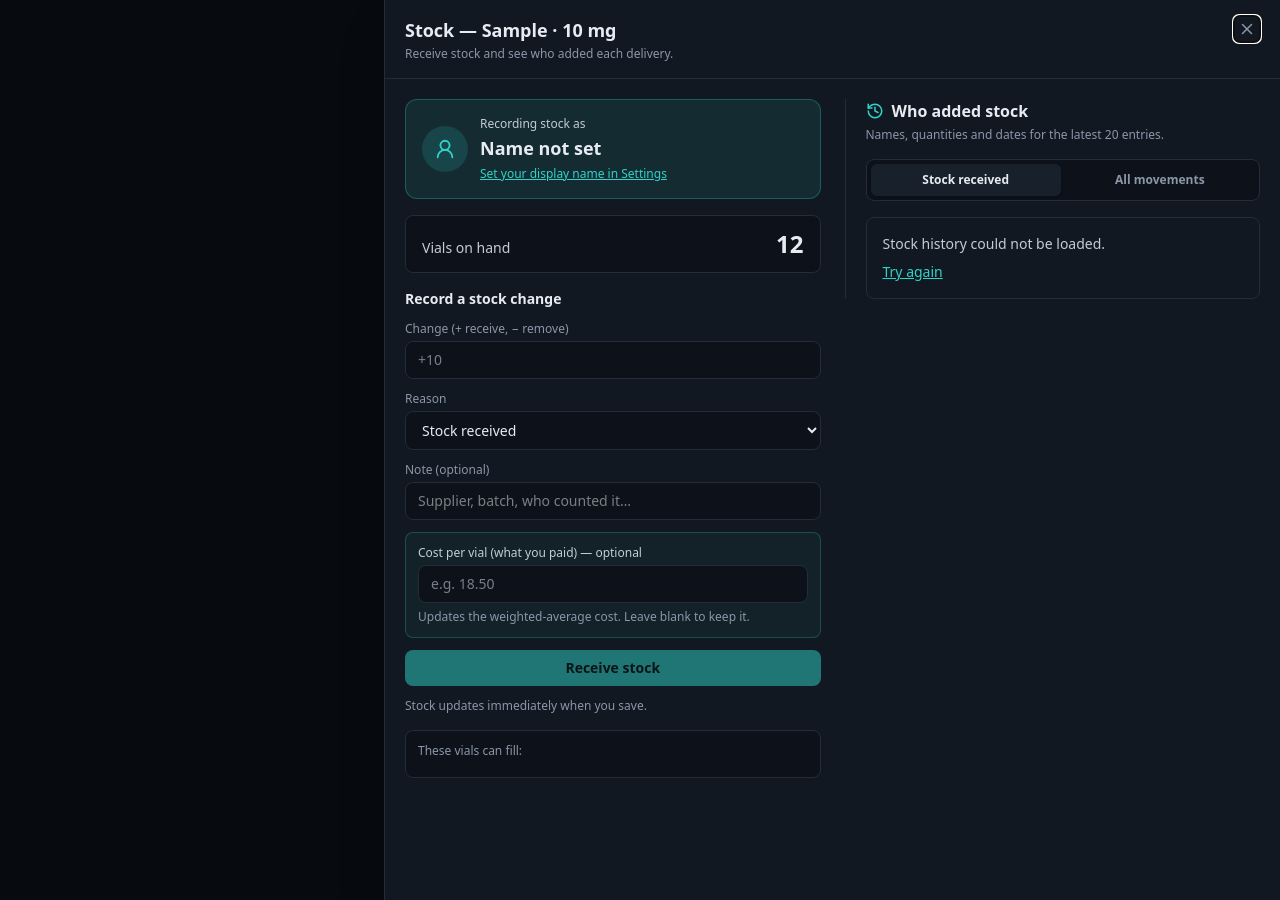
Scenario: lets an admin retry a failed history read instead of presenting it as no receipts
This screenshot has width=1280, height=900.
expect the message "Stock history could not be loaded. Try again" is shown: met, box [866,217,1260,299]
Click the button "Try again" at (913, 272), box [882,262,943,282]
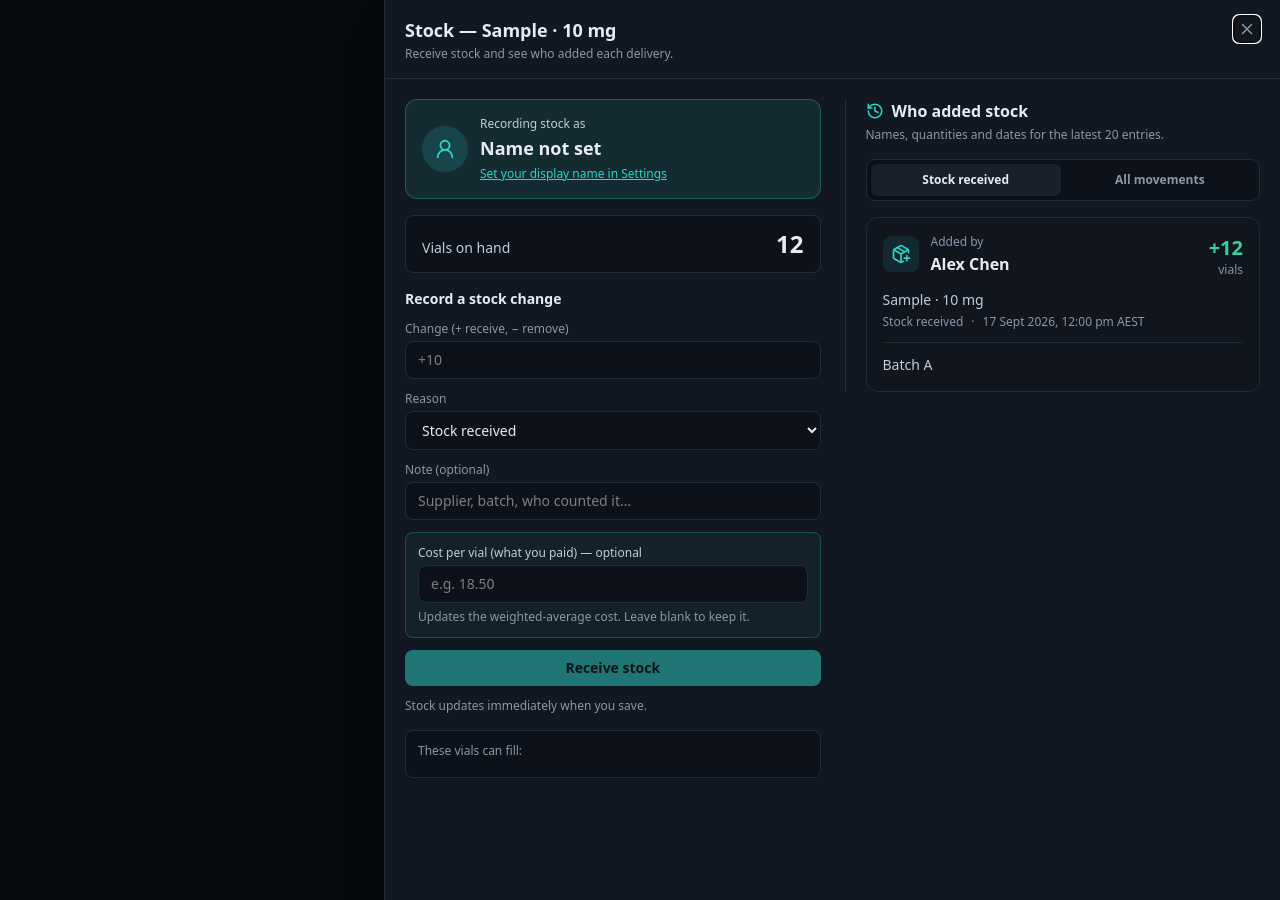
expect the text "Alex Chen" is shown: met, box [930,252,1010,276]
